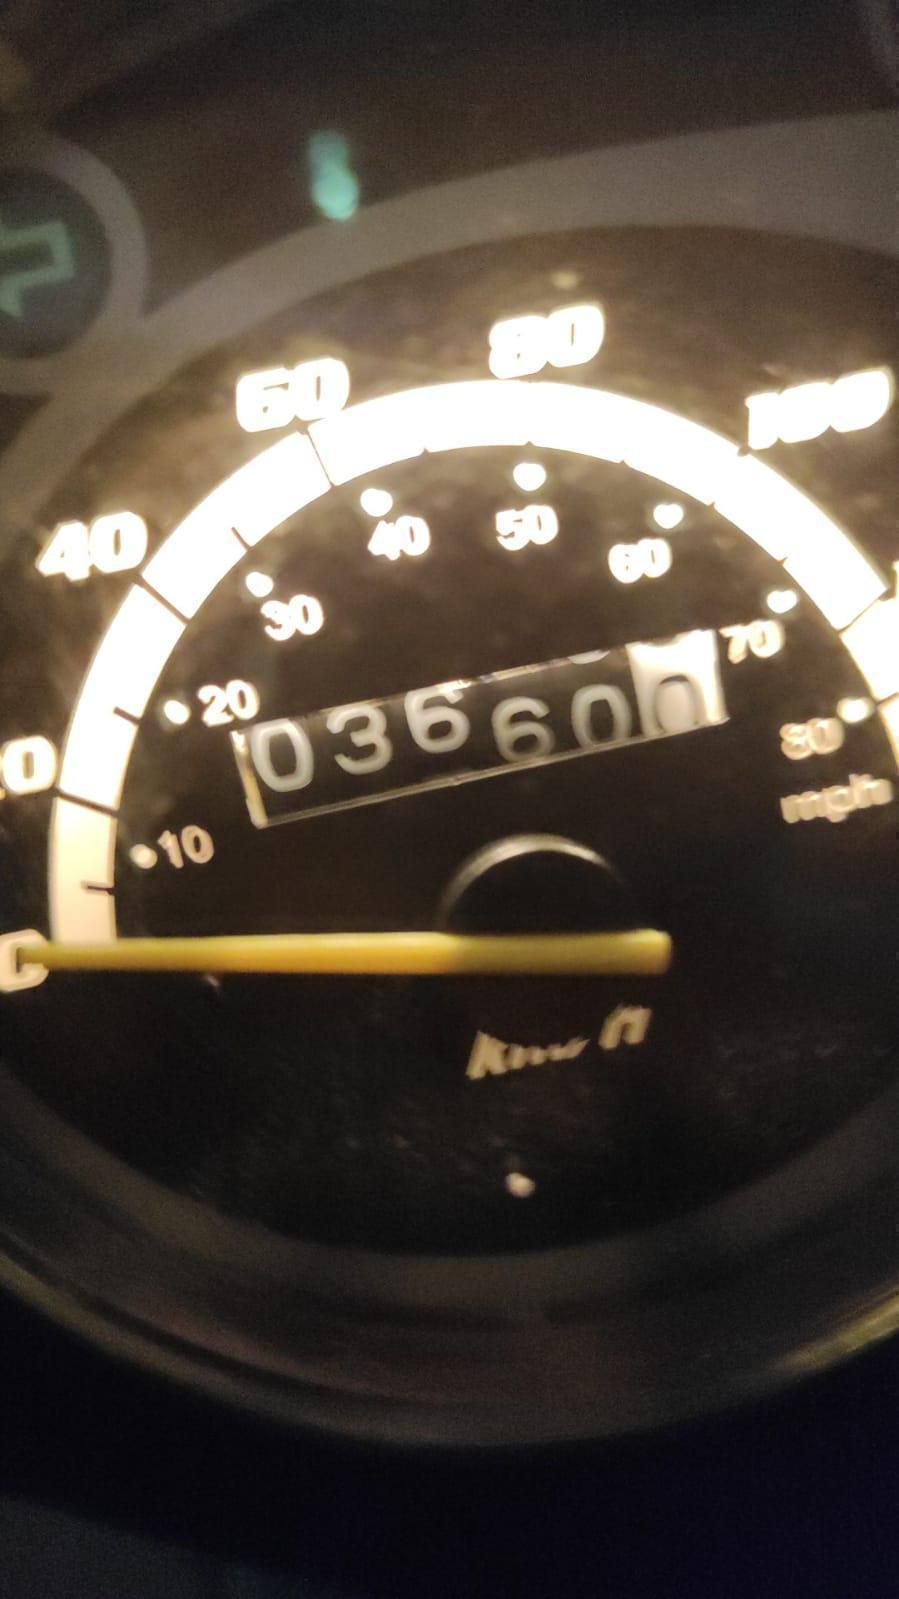0: (569, 675, 636, 769), (650, 667, 713, 757), (245, 718, 316, 794), (288, 590, 331, 638), (226, 673, 266, 722)
3: (326, 697, 395, 779), (255, 599, 290, 644)
6: (398, 674, 473, 756), (490, 689, 555, 765)
7: (719, 619, 748, 666)
odometer: (223, 591, 749, 840)
